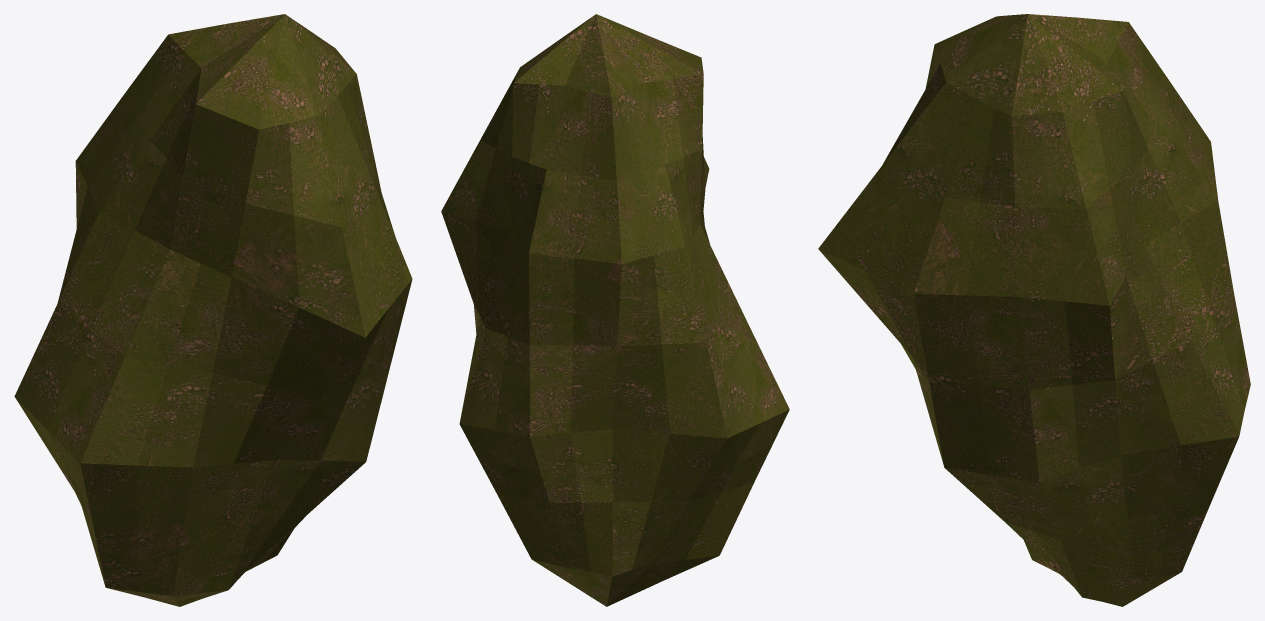
File: shard_2.glb
The picture shows the model from 3 angles, left to right: view 1: azimuth 30°, elevation 25°; view 2: azimuth 150°, elevation 25°; view 3: azimuth 270°, elevation 25°; orthographic projection. The views are drawn at different scales.
Parts seen in each view (by area): view 1: shard; view 2: shard; view 3: shard.
Boxes of the visible parts, box(x1,y1,x2,y2) form: shard: box(14, 14, 412, 606); shard: box(441, 14, 789, 606); shard: box(818, 14, 1250, 606).
Bounding box in the file's own units: 1.7 × 2.91 × 1.84.
Materials: 1 (1 with a texture image).
